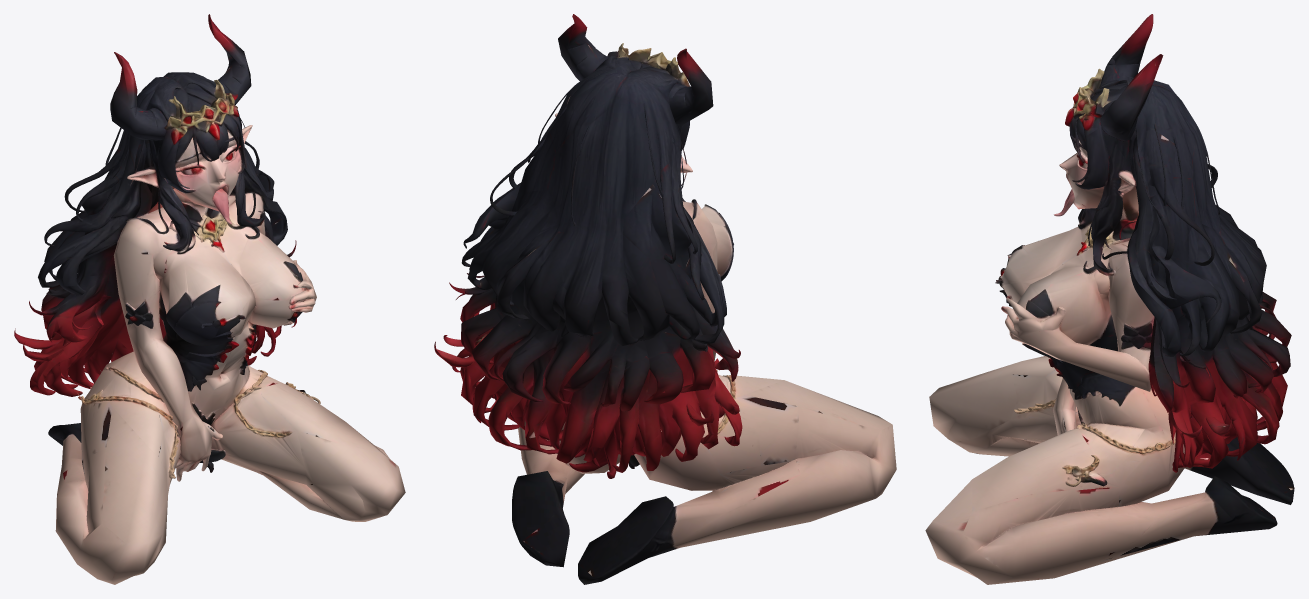
The model's file is 01a1a2e3-b1c3-7994-acea-07b6d16dce3a.glb.
The picture shows the model from 3 angles, left to right: view 1: azimuth 30°, elevation 25°; view 2: azimuth 150°, elevation 25°; view 3: azimuth 270°, elevation 25°; orthographic projection. The views are drawn at different scales.
Visible parts, largest first — view 1: model; view 2: model; view 3: model.
Part boxes in pixels (box(x1,y1,x2,y2)): model: box(14, 14, 405, 584); model: box(434, 14, 896, 584); model: box(925, 14, 1294, 584).
Bounding box in the file's own units: 1.35 × 1.89 × 1.29.
1 material, 1 textured.
